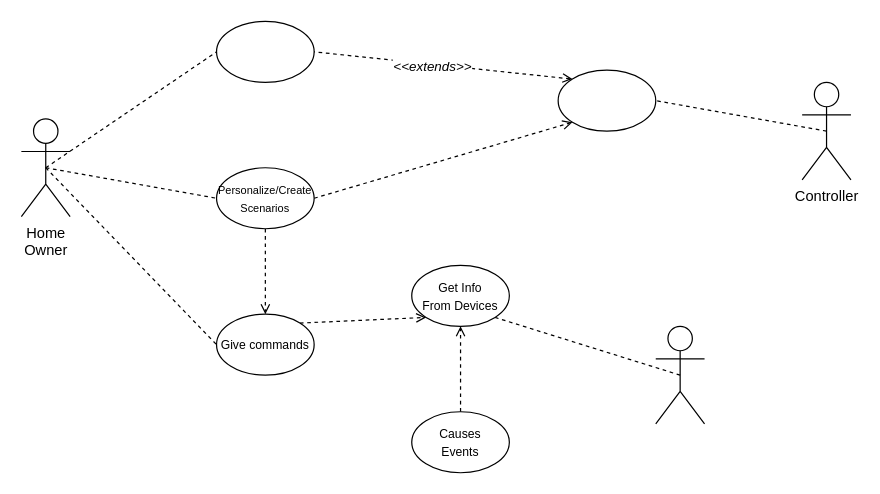
Image size: 880x494. Some labels were removed from this diagram. Each missing label, with the box of its shape:
Add/Remove Device: (215, 20, 314, 82)
Devices: (655, 325, 705, 424)
Request to Controller: (557, 69, 656, 131)
